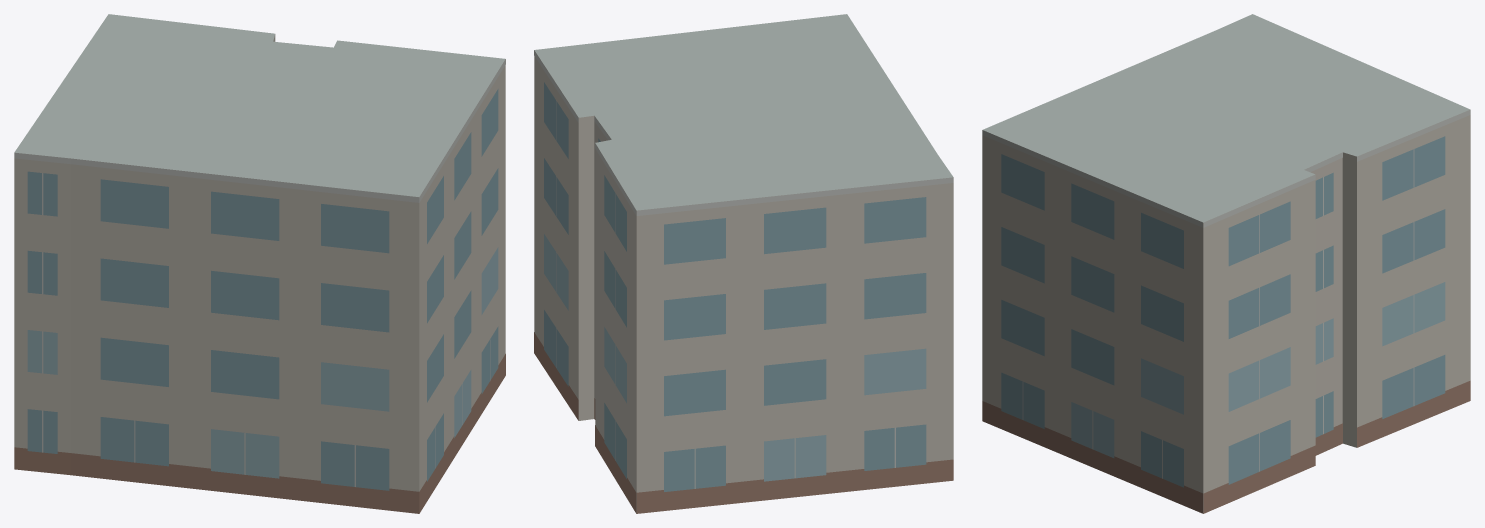
Rendered from survey-upis-32498151.glb.
3 renders of one model, left to right at view 1: azimuth 30°, elevation 25°; view 2: azimuth 150°, elevation 25°; view 3: azimuth 270°, elevation 25°, orthographic. The views are drawn at different scales.
Visible parts, largest first — view 1: survey-upis-32498151.tmp; view 2: survey-upis-32498151.tmp; view 3: survey-upis-32498151.tmp.
Part boxes in pixels (box(x1,y1,x2,y2)): survey-upis-32498151.tmp: box(14, 14, 505, 513); survey-upis-32498151.tmp: box(534, 14, 953, 513); survey-upis-32498151.tmp: box(982, 14, 1470, 513).
Size of the model in its own units: 20.59 by 13.4 by 20.36.
